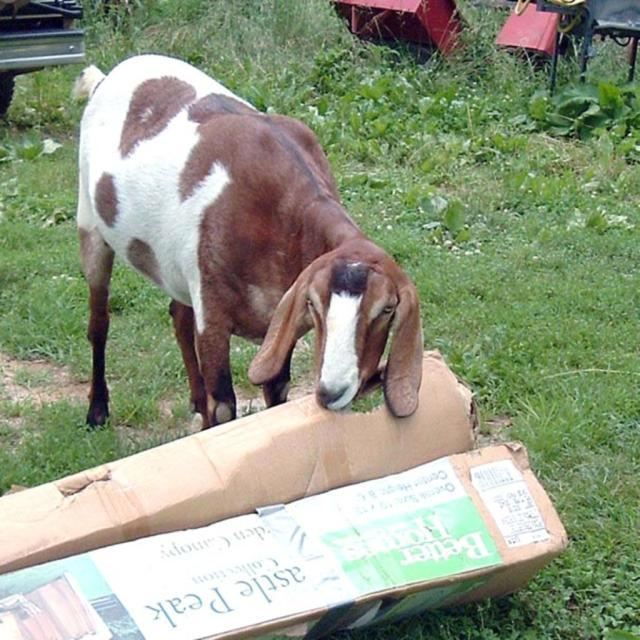Goat: (69, 51, 425, 433)
